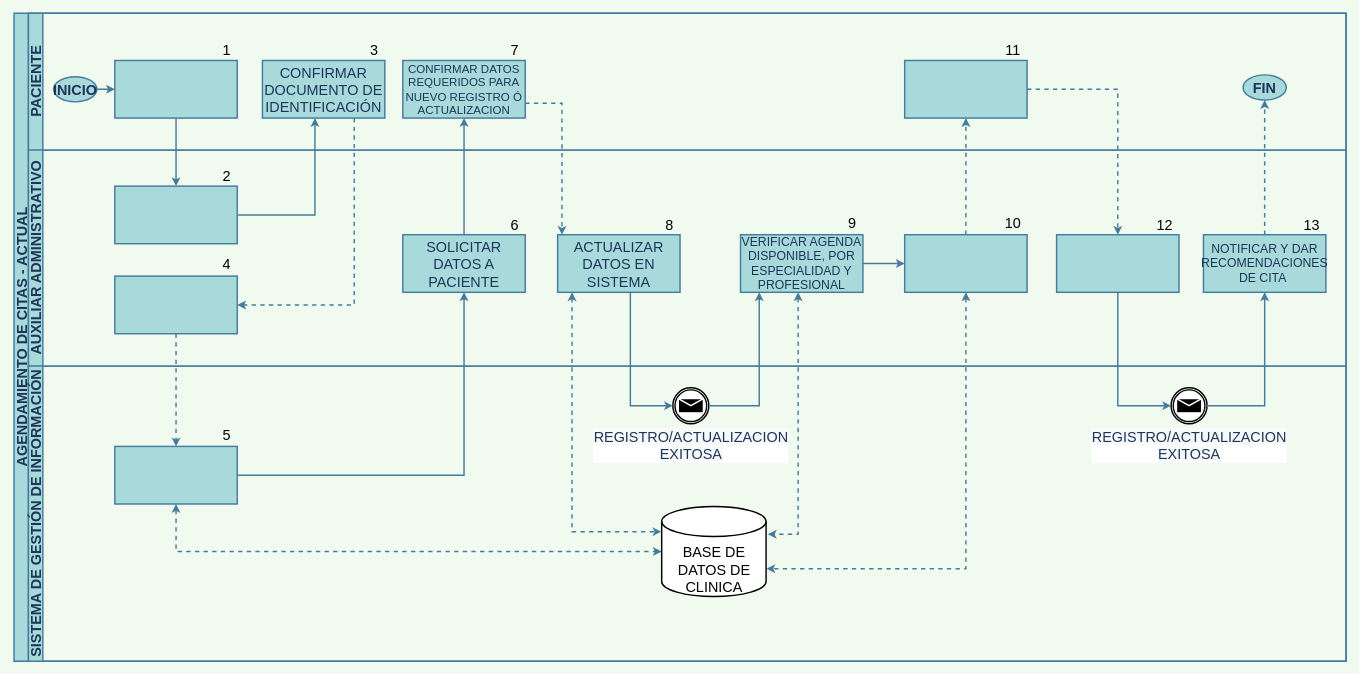
This 1359x674 diagram has some shape labels left out. Each missing label, with the centre of its shape:
CONFIRMAR FECHA, HORA Y PROFESIONAL QUE DESEA AGENDAR: point (965, 88)
INFORMAR FECHA, HORA Y PROFESIONAL DISPONIBLE: point (965, 263)
INGRESAR DATOS DE CITA A SISTEMA: point (1117, 263)
INGRESAR DOCUMENTO IDENTIDAD A SISTEMA: point (176, 304)
SOLICITAR CITA (TELEFONO O PRESENCIAL): point (176, 88)
SOLICITAR DOCUMENTO DE IDENTIFICACIÓN: point (176, 214)
VALIDAR SI PACIENTE REGISTRA EN SISTEMA: point (176, 474)
